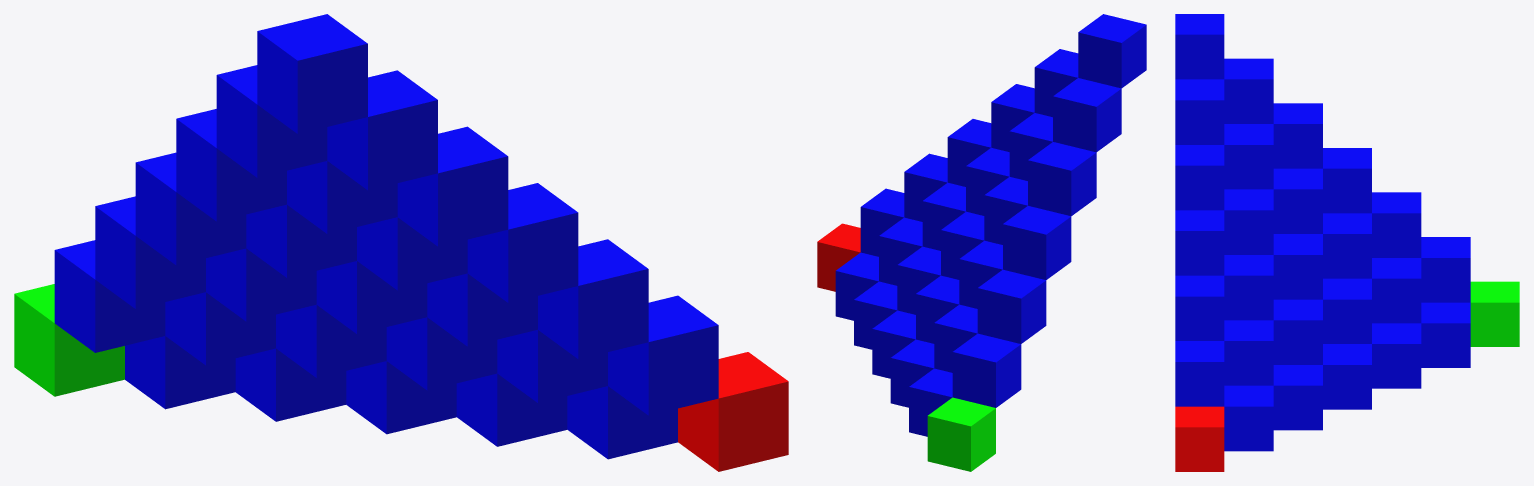
The model's file is cubes_bin.gltf.
The picture shows the model from 3 angles, left to right: view 1: azimuth 30°, elevation 25°; view 2: azimuth 150°, elevation 25°; view 3: azimuth 270°, elevation 25°; orthographic projection. The views are drawn at different scales.
Parts seen in each view (by area): view 1: cube_0_0, cube_2_0, cube_3_0, cube_4_0, cube_5_0, cube_red, cube_1_0, cube_1_1, cube_3_3, cube_5_5, cube_4_4, cube_green (+16 smaller); view 2: cube_4_4, cube_5_5, cube_0_0, cube_1_1, cube_3_3, cube_green, cube_2_2, cube_1_0, cube_6_4, cube_5_0, cube_3_0, cube_3_1 (+16 smaller); view 3: cube_6_1, cube_1_0, cube_1_1, cube_2_1, cube_2_2, cube_3_0, cube_3_1, cube_4_1, cube_4_2, cube_4_4, cube_5_0, cube_5_1 (+16 smaller).
Part boxes in pixels (x1=…): cube_0_0: x1=257, y1=14, x2=367, y2=133; cube_2_0: x1=397, y1=126, x2=508, y2=246; cube_3_0: x1=467, y1=183, x2=578, y2=302; cube_4_0: x1=538, y1=239, x2=648, y2=359; cube_5_0: x1=608, y1=295, x2=718, y2=415; cube_red: x1=678, y1=352, x2=788, y2=471; cube_1_0: x1=327, y1=70, x2=437, y2=190; cube_1_1: x1=216, y1=65, x2=327, y2=177; cube_3_3: x1=135, y1=152, x2=246, y2=265; cube_5_5: x1=54, y1=240, x2=165, y2=352; cube_4_4: x1=95, y1=196, x2=205, y2=308; cube_green: x1=14, y1=284, x2=124, y2=396; cube_4_4: x1=977, y1=269, x2=1046, y2=343; cube_5_5: x1=952, y1=333, x2=1021, y2=407; cube_0_0: x1=1078, y1=14, x2=1146, y2=88; cube_1_1: x1=1053, y1=78, x2=1121, y2=152; cube_3_3: x1=1003, y1=206, x2=1071, y2=279; cube_green: x1=927, y1=397, x2=995, y2=471; cube_2_2: x1=1028, y1=142, x2=1096, y2=216; cube_1_0: x1=1034, y1=49, x2=1078, y2=117; cube_6_4: x1=890, y1=339, x2=934, y2=407; cube_5_0: x1=860, y1=188, x2=904, y2=256; cube_3_0: x1=947, y1=119, x2=991, y2=186; cube_3_1: x1=966, y1=147, x2=1009, y2=215; cube_6_1: x1=1224, y1=385, x2=1273, y2=451; cube_1_0: x1=1175, y1=79, x2=1224, y2=144; cube_1_1: x1=1224, y1=58, x2=1273, y2=123; cube_2_1: x1=1224, y1=124, x2=1273, y2=189; cube_2_2: x1=1273, y1=103, x2=1322, y2=168; cube_3_0: x1=1175, y1=210, x2=1224, y2=275; cube_3_1: x1=1224, y1=189, x2=1273, y2=254; cube_4_1: x1=1224, y1=255, x2=1273, y2=320; cube_4_2: x1=1273, y1=234, x2=1322, y2=299; cube_4_4: x1=1372, y1=192, x2=1421, y2=257; cube_5_0: x1=1175, y1=341, x2=1224, y2=406; cube_5_1: x1=1224, y1=320, x2=1273, y2=385.
Bounding box in the file's own units: 7 × 7 × 7.
